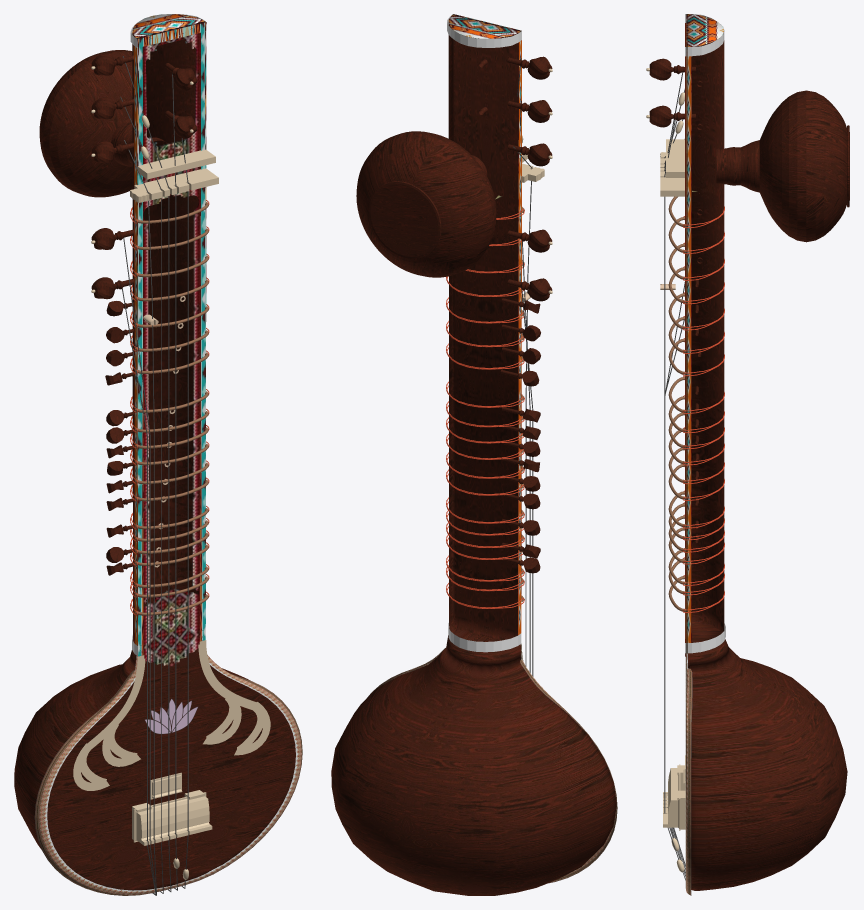
Rendered from classical_musical_instrument_-_sitar.glb.
The picture shows the model from 3 angles, left to right: view 1: azimuth 30°, elevation 25°; view 2: azimuth 150°, elevation 25°; view 3: azimuth 270°, elevation 25°; orthographic projection.
Visible parts, largest first — view 1: Circle.017_Circle.012_2; view 2: Circle.017_Circle.012_2; view 3: Circle.017_Circle.012_2.
Boxes of the visible parts, left/top/right/bottom form: Circle.017_Circle.012_2: left=14, top=14, right=302, bottom=895; Circle.017_Circle.012_2: left=331, top=14, right=617, bottom=895; Circle.017_Circle.012_2: left=646, top=14, right=849, bottom=895.
Size of the model in its own units: 0.6807 by 2.09 by 0.4563.
14 materials, 8 textured.
